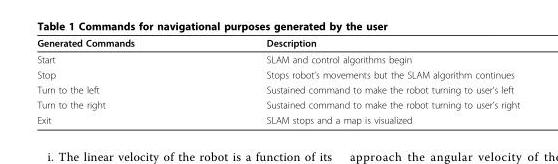table: (36, 36, 519, 125)
table column: (199, 36, 519, 125), (36, 36, 199, 125)
table column header: (36, 36, 519, 50)
table row: (36, 50, 519, 66), (36, 96, 519, 112), (36, 66, 519, 81), (36, 81, 519, 96), (36, 36, 519, 50), (36, 112, 519, 125)
